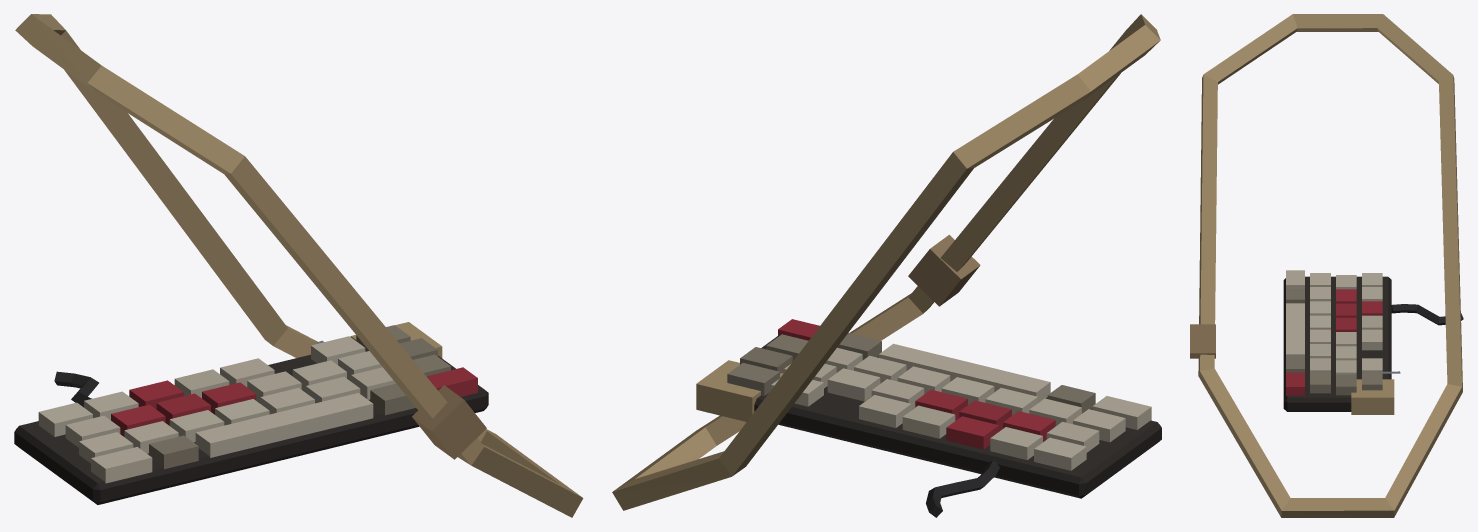
Rendered from tl_prop_keyboard_v01.glb.
The picture shows the model from 3 angles, left to right: view 1: azimuth 30°, elevation 25°; view 2: azimuth 150°, elevation 25°; view 3: azimuth 270°, elevation 25°; orthographic projection. The views are drawn at different scales.
Parts seen in each view (by area): view 1: tl_prop_keyboard_v01, sling; view 2: tl_prop_keyboard_v01, sling; view 3: sling, tl_prop_keyboard_v01.
Part boxes in pixels (x1,y1,x2,y2): tl_prop_keyboard_v01: (14,322,488,504); sling: (15,14,583,517); tl_prop_keyboard_v01: (696,319,1161,517); sling: (612,14,1160,510); sling: (1190,14,1462,517); tl_prop_keyboard_v01: (1283,270,1463,414).
Size of the model in its own units: 0.4198 by 0.4588 by 0.317.
